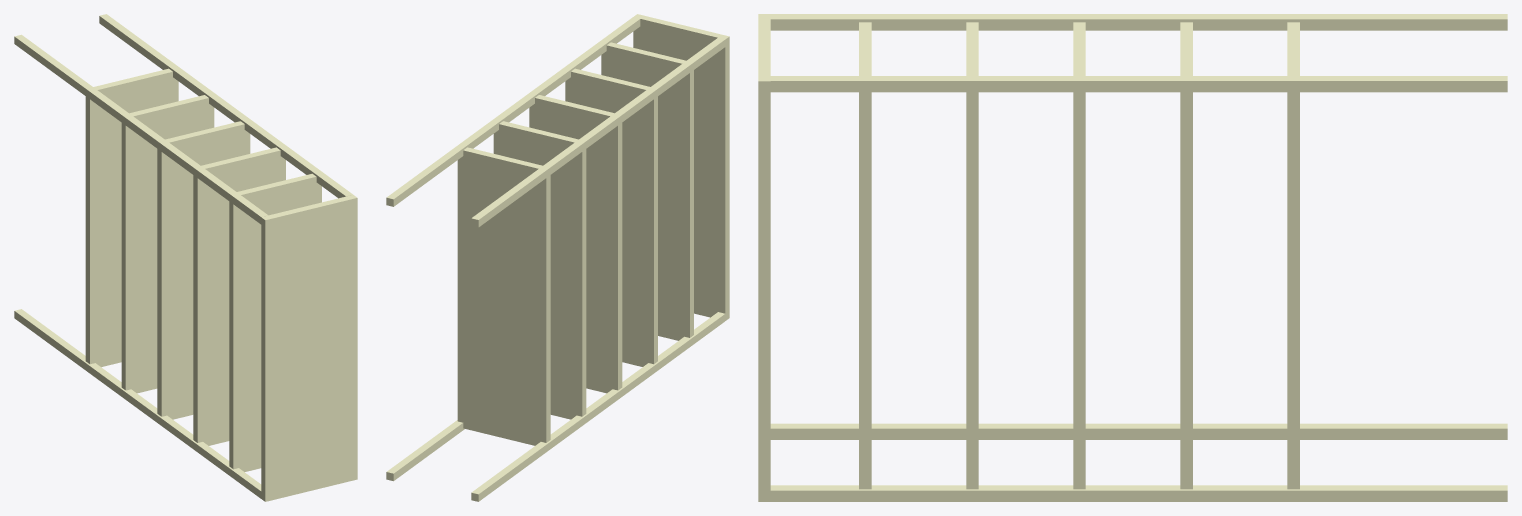
File: nil_link_mesh.dae
The picture shows the model from 3 angles, left to right: view 1: azimuth 30°, elevation 25°; view 2: azimuth 150°, elevation 25°; view 3: azimuth 270°, elevation 25°; orthographic projection. The views are drawn at different scales.
Visible parts, largest first — view 1: nil_link (×9); view 2: nil_link (×10); view 3: nil_link (×10).
Boxes of the visible parts, <box> form: nil_link (×9): <box>14,14,357,501</box>; nil_link (×10): <box>386,14,729,501</box>; nil_link (×10): <box>758,14,1507,501</box>.
Size of the model in its own units: 0.445 by 1.3 by 2.1.
